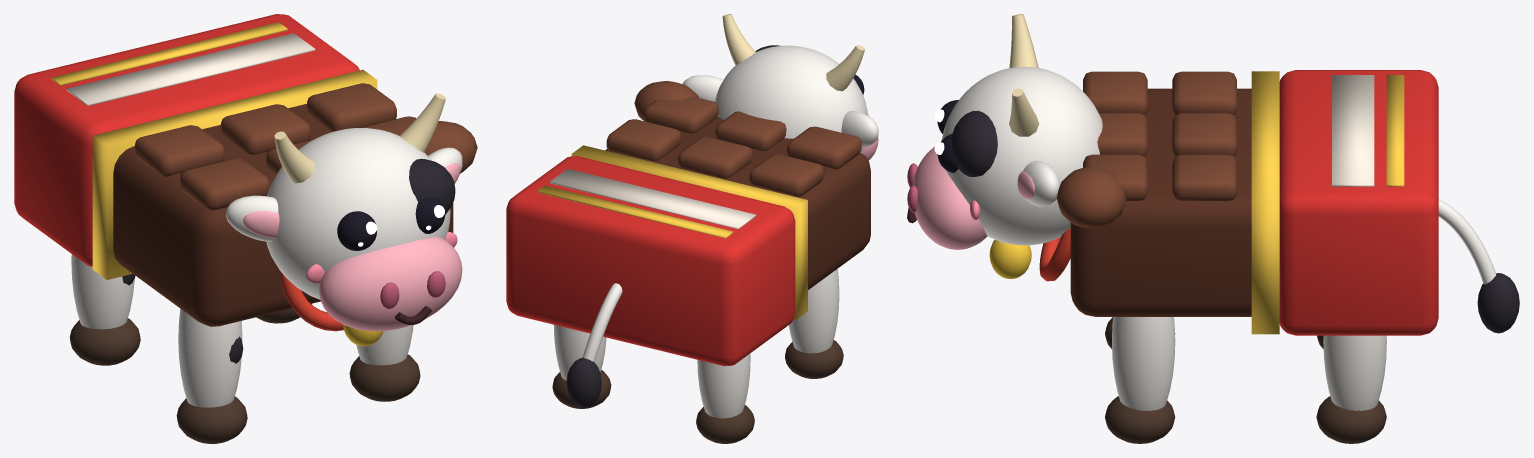
File: pilot_ku_sjoko.glb
3 renders of one model, left to right at view 1: azimuth 30°, elevation 25°; view 2: azimuth 150°, elevation 25°; view 3: azimuth 270°, elevation 25°, orthographic. The views are drawn at different scales.
Visible parts, largest first — view 1: kropp, hode, bein_vf, bein_vb, bein_hf; view 2: kropp, hode, bein_vf, bein_vb, hale, bein_hb; view 3: kropp, hode, bein_hf, bein_hb, hale.
Boxes of the visible parts, box(x1,y1,x2,y2) form: kropp: box(14, 14, 477, 326); hode: box(225, 93, 462, 346); bein_vf: box(176, 309, 247, 443); bein_vb: box(69, 254, 140, 365); bein_hf: box(349, 325, 420, 401); kropp: box(506, 81, 870, 366); hode: box(682, 14, 878, 160); bein_vf: box(785, 269, 843, 378); bein_vb: box(696, 353, 754, 443); hale: box(566, 283, 622, 407); bein_hb: box(552, 325, 611, 408); kropp: box(1056, 70, 1438, 335); hode: box(907, 14, 1102, 281); bein_hf: box(1105, 317, 1175, 443); bein_hb: box(1316, 335, 1386, 443); hale: box(1438, 199, 1519, 333).
Bounding box in the file's own units: 0.941 × 1.08 × 1.74.
